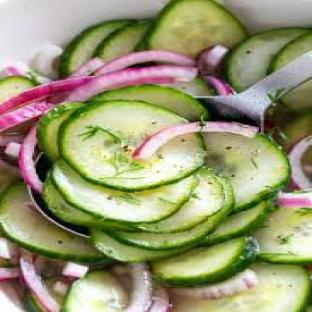Cucumber: (60, 100, 206, 191), (52, 162, 196, 223), (111, 179, 233, 250), (0, 183, 107, 263), (203, 133, 289, 211), (171, 264, 310, 311), (139, 168, 223, 232), (43, 177, 138, 231), (227, 28, 308, 91), (152, 238, 255, 285), (60, 20, 134, 77), (91, 86, 207, 121), (91, 229, 187, 263), (255, 208, 311, 264), (202, 201, 272, 245), (38, 103, 83, 162), (62, 272, 127, 311), (94, 21, 150, 61), (270, 106, 311, 150), (272, 32, 311, 71), (0, 77, 35, 102), (169, 78, 214, 97), (0, 162, 20, 194), (43, 278, 64, 305), (26, 293, 44, 311), (0, 258, 13, 267)
